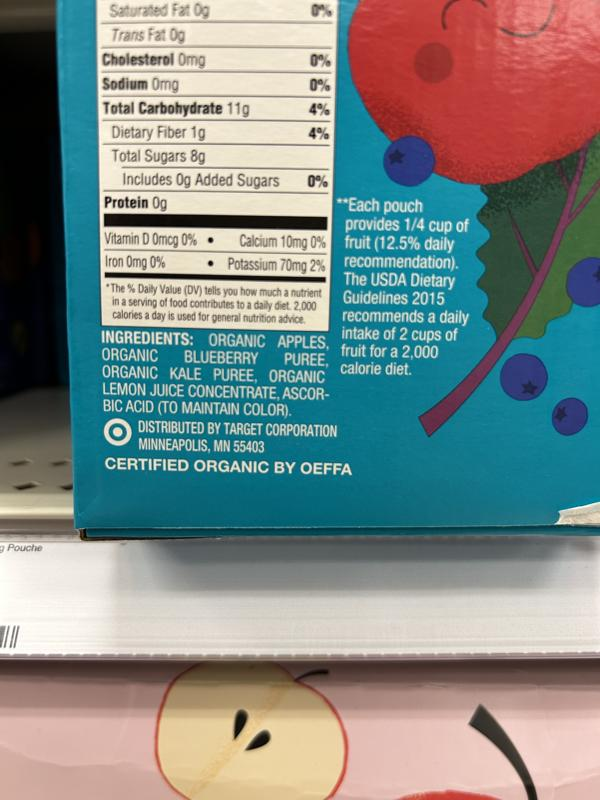ingredients: (99, 328, 331, 418)
